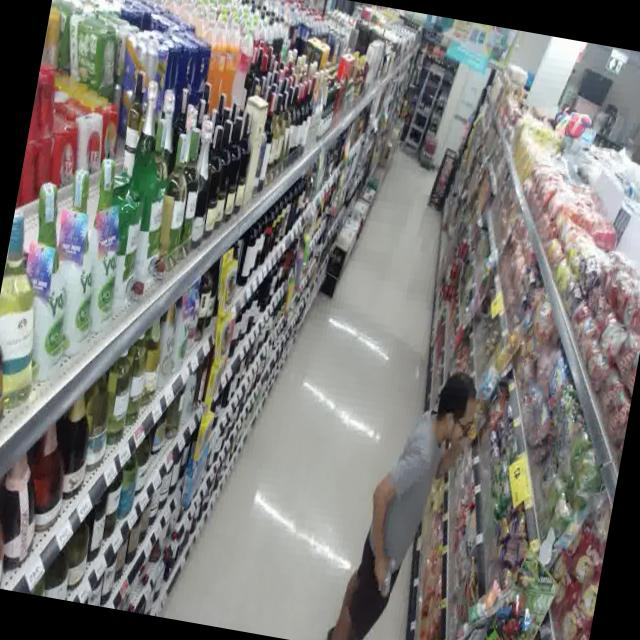shoplifting: (322, 343, 509, 640)
